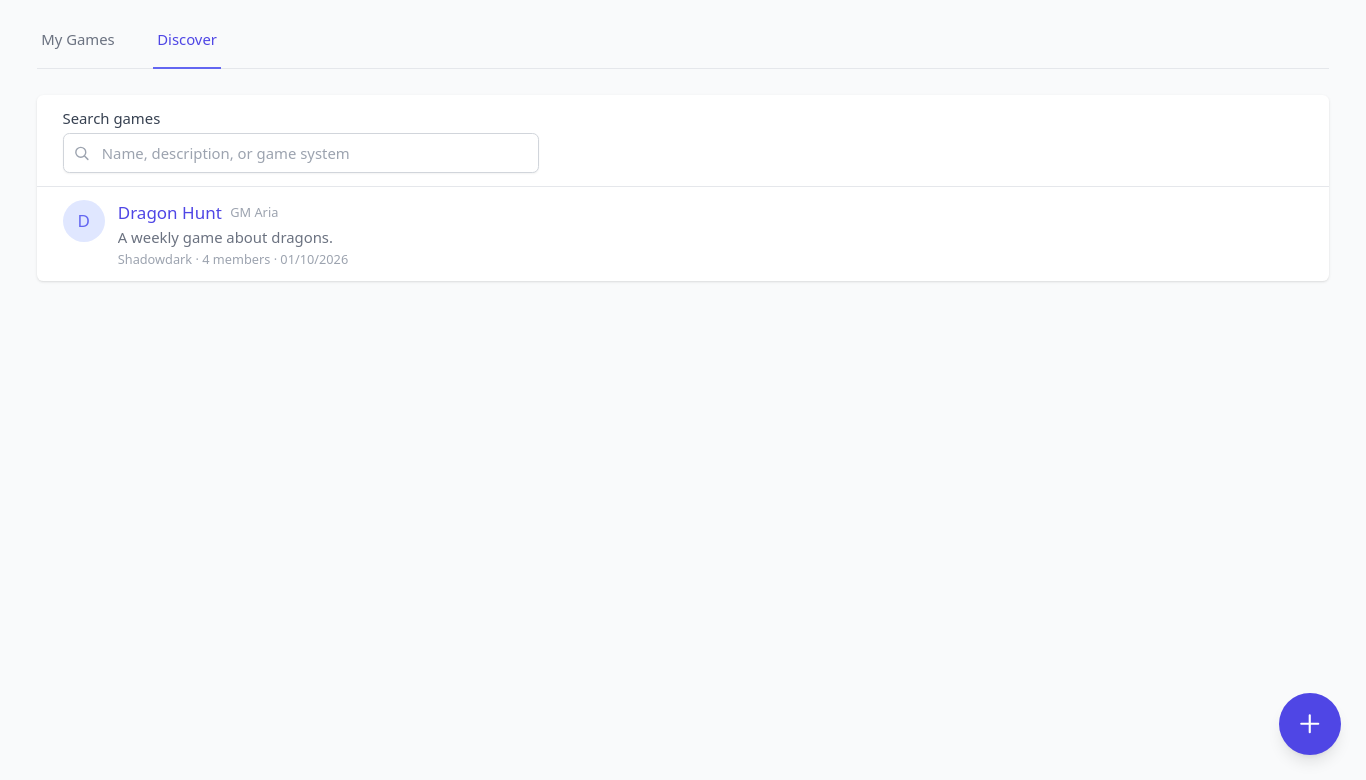
Test: Lobby › Discover tab › keeps an explicit My Games choice for a user with no channels
# ...but choosing My Games must stick, so its empty state stays reachable.
Click the button "My Games" at (78, 41), box [37, 12, 119, 69]
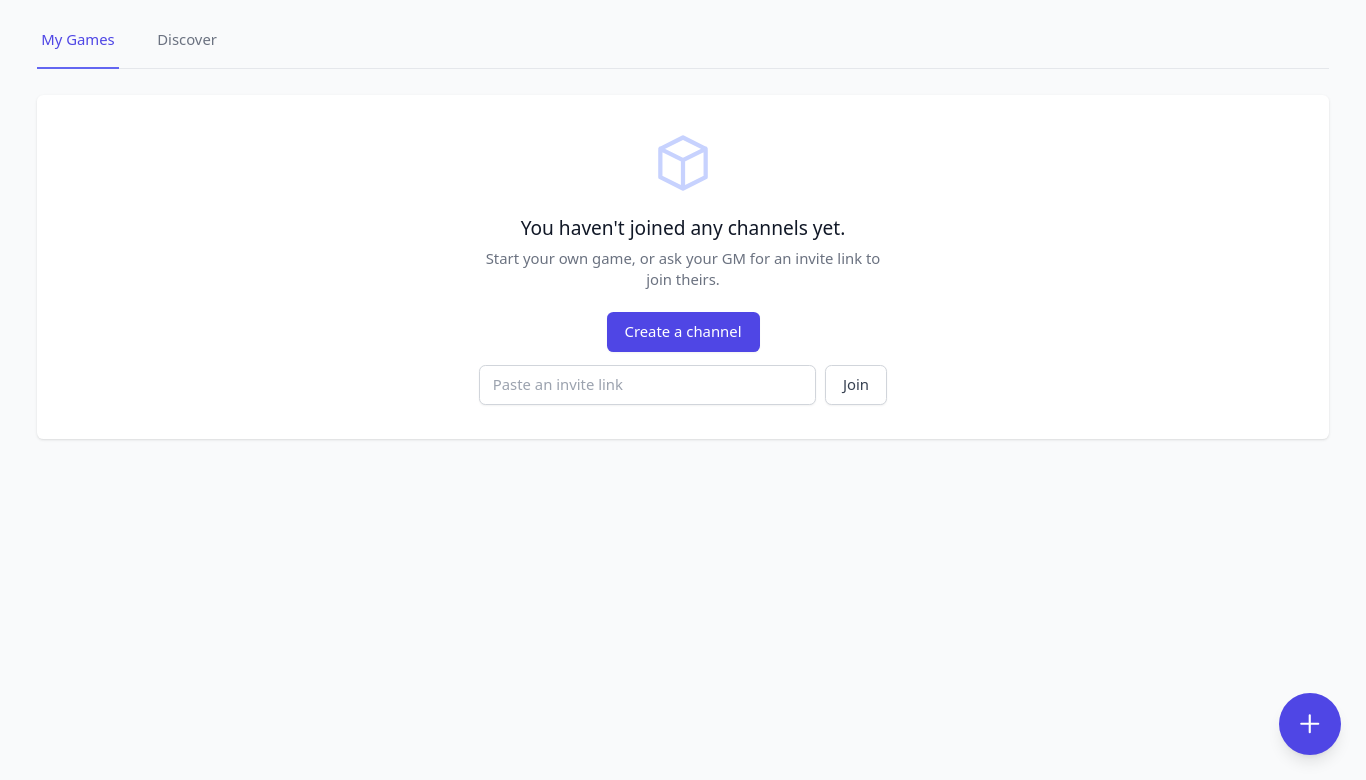
expect the element with test id "empty-lobby" is shown: met, box [479, 129, 887, 405]
